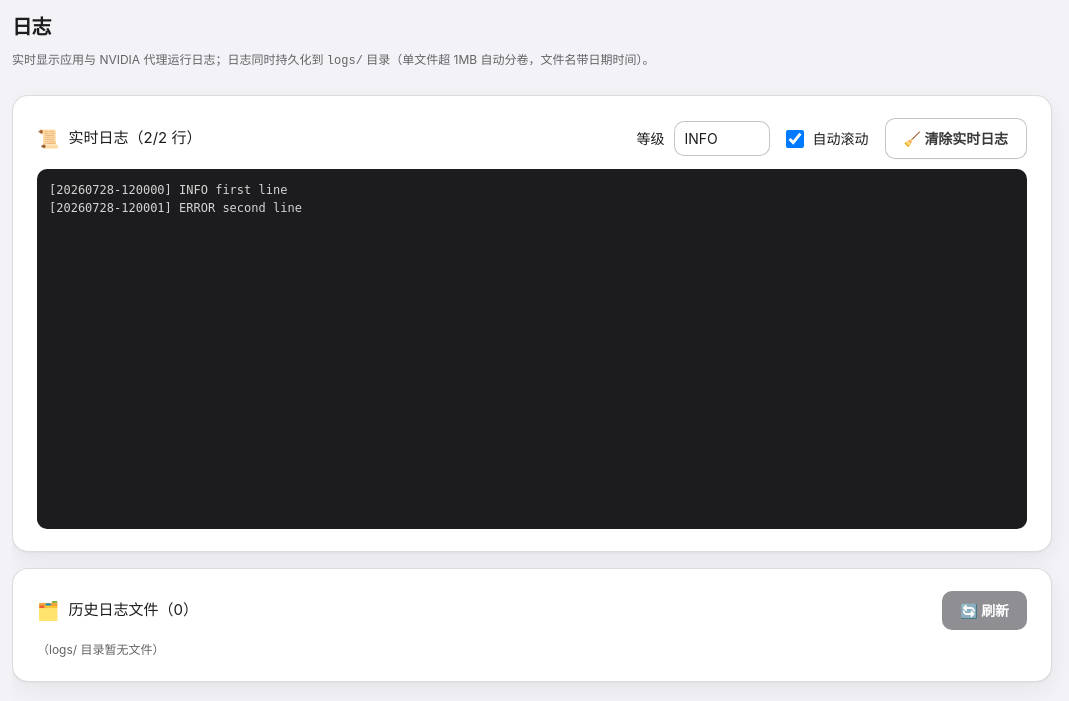
Test case: LogPage › clears the backend live-log buffer and removes the displayed lines
Expected: the text "[20260728-120000] INFO first line" is shown, x1=49 y1=183 x2=287 y2=197
Step 1. Click the button "🧹 清除实时日志" → (956, 139), box x1=884 y1=118 x2=1027 y2=159
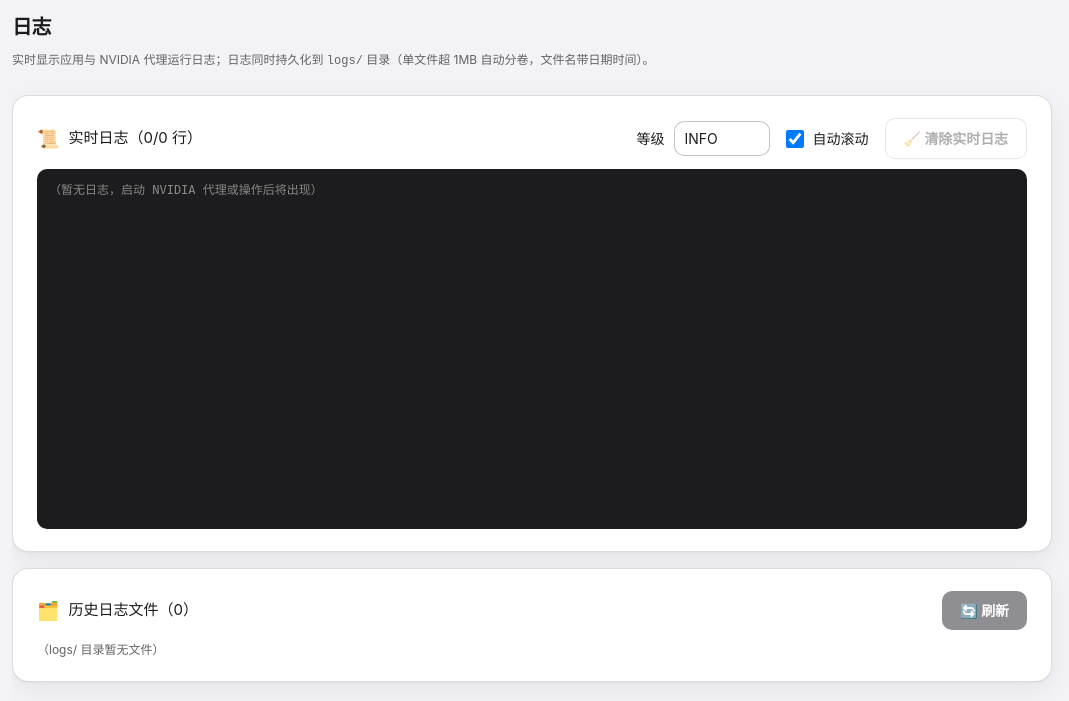
Now the text "[20260728-120000] INFO first line" is gone
Now the text "[20260728-120001] ERROR second line" is gone
